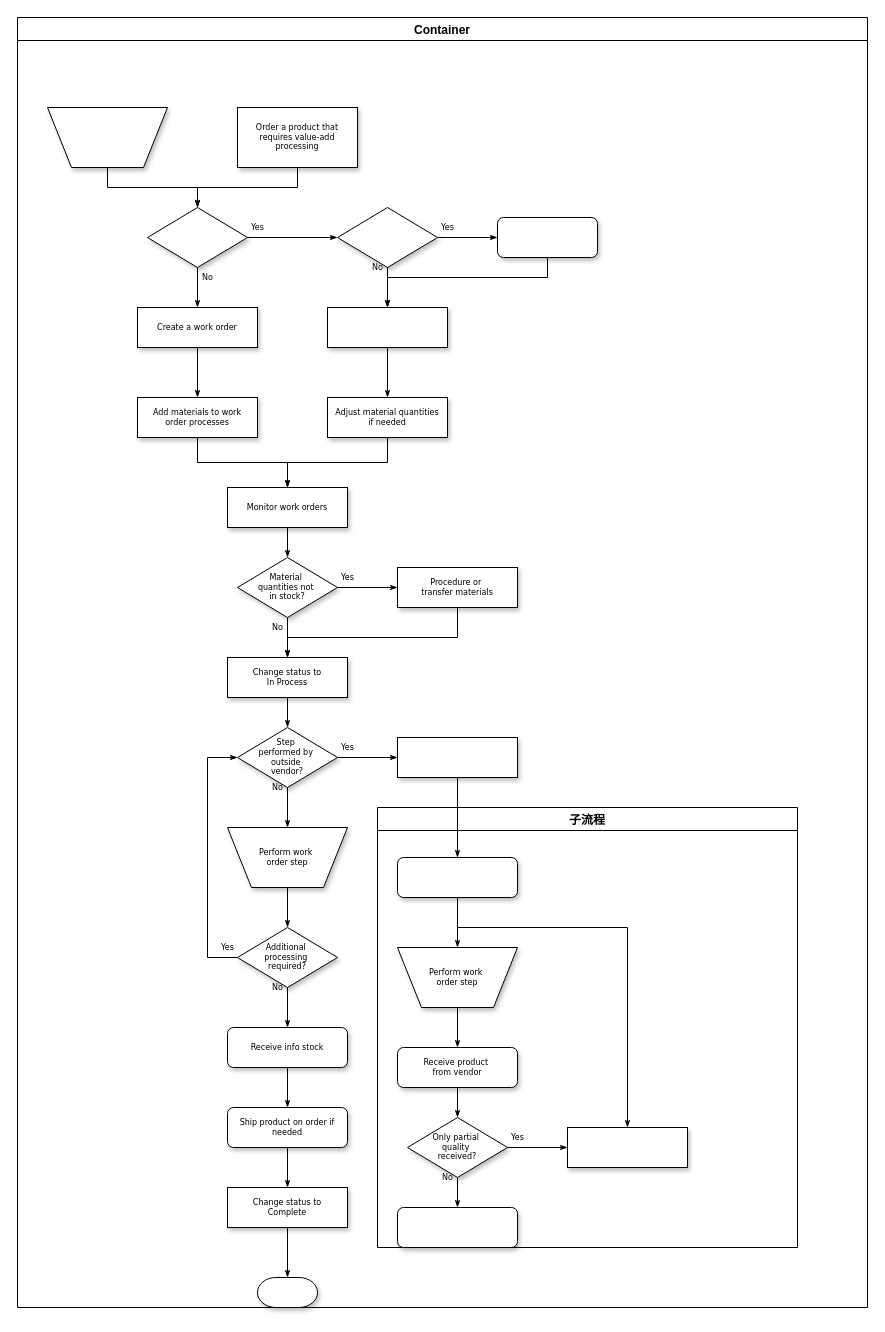
Some shapes in this 885 by 1332 pixel diagram are drawn without their labels. Each missing label, with the centre of its shape:
Add or adjust vendor costs: [458,758]
Copy template to work order: [388,328]
Create work order backorder: [628,1148]
Create work order template: [548,238]
Determine need to replenish value-add stock: [108,138]
End: [288,1293]
Frequently performed process?: [198,238]
New template needed?: [388,238]
Pay vendor invoice: [458,1228]
Ship materials to vendor: [458,878]
